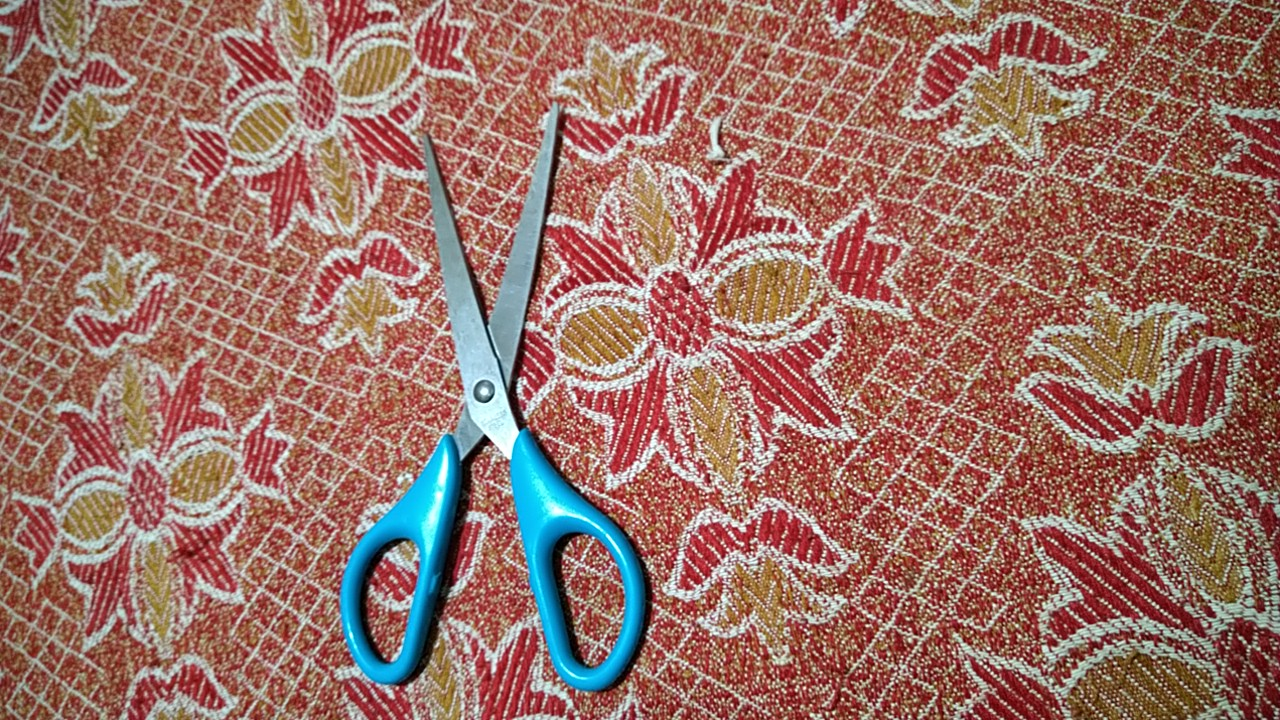scissor: (327, 89, 668, 700)
